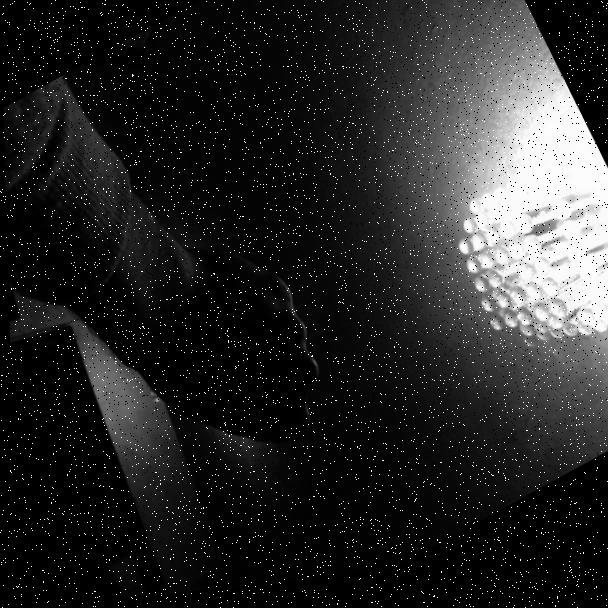five: (81, 189, 363, 527)
